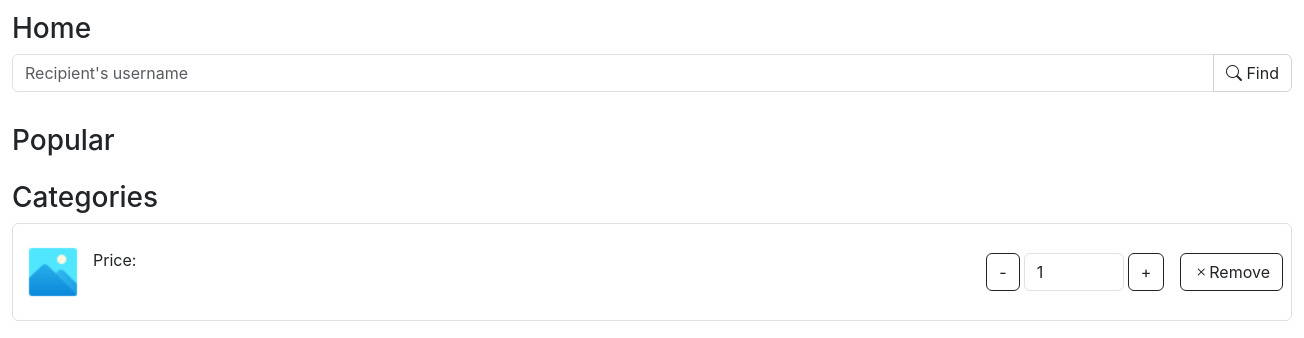
Test: CartProductCard tests › Plus quantity
Check: the element with test id "cart-product-card" is shown, box left=12, top=223, right=1292, bottom=321
Click the button with test id "plus-btn".
click(1146, 272)  # box left=1128, top=253, right=1164, bottom=291
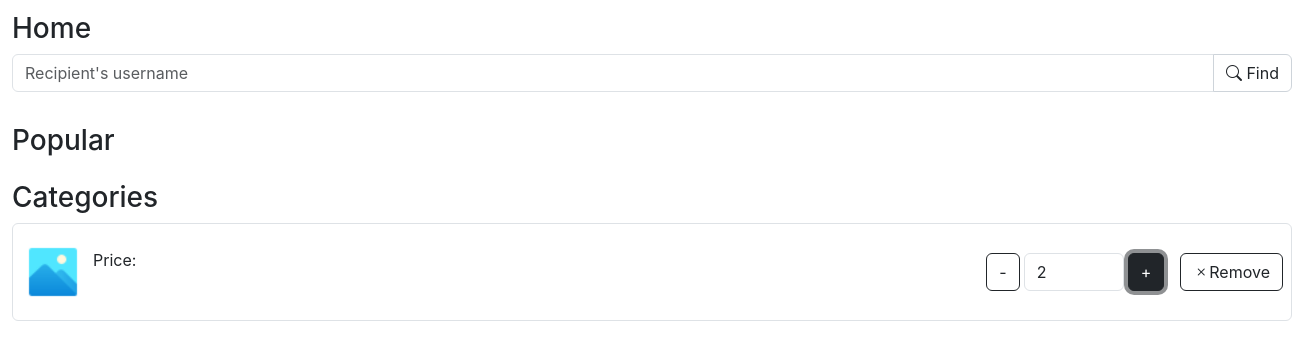
Check: the number field with test id "quantity-field" holds "2", box left=1024, top=253, right=1124, bottom=291
